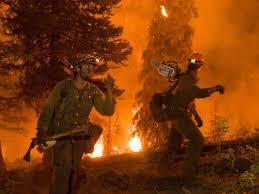fire: (81, 137, 105, 159), (126, 129, 143, 152), (158, 3, 169, 17)
